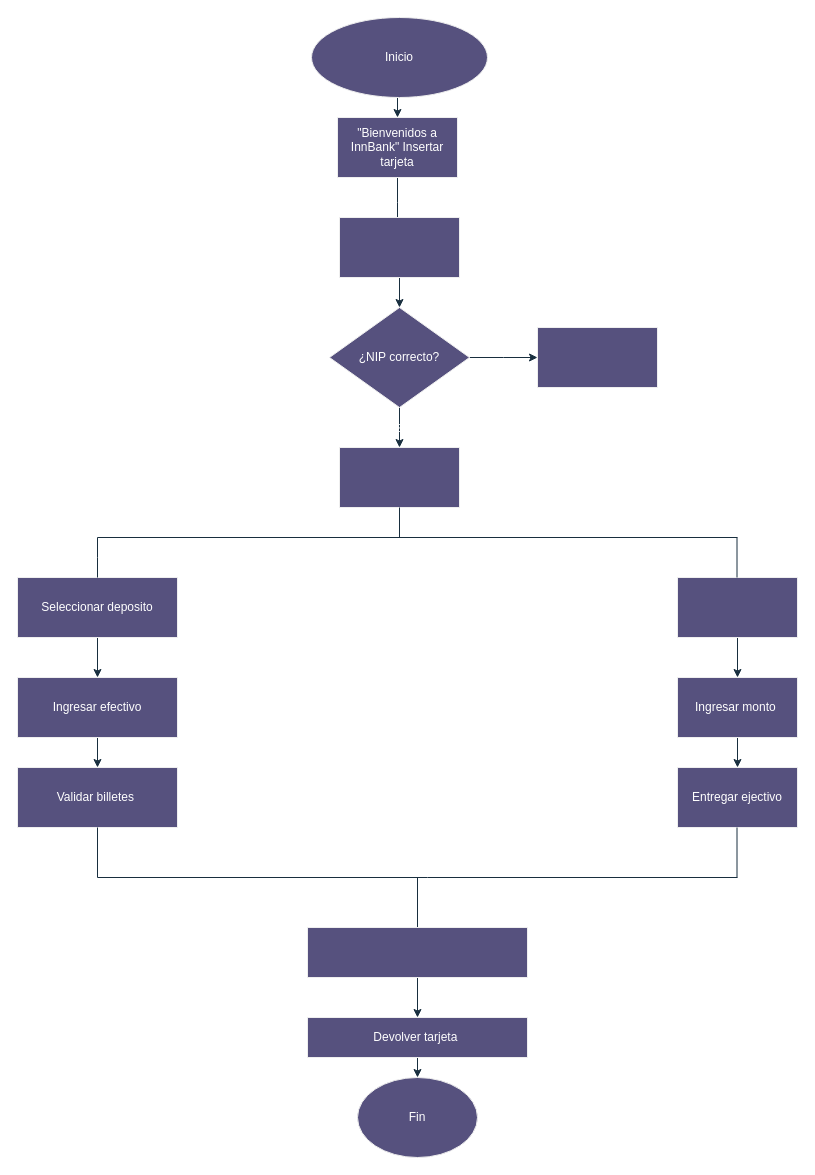
Some shapes in this 815 by 1175 pixel diagram are drawn without their labels. The centre of each missing label's shape, as x and y in pixels:
Actualizar saldo: point (417, 952)
Ingresa NIP: point (399, 247)
Menú principal: point (399, 477)
Mostrar error Reintentar,máx. 3: point (597, 357)
Seleccionar retiro: point (737, 607)
